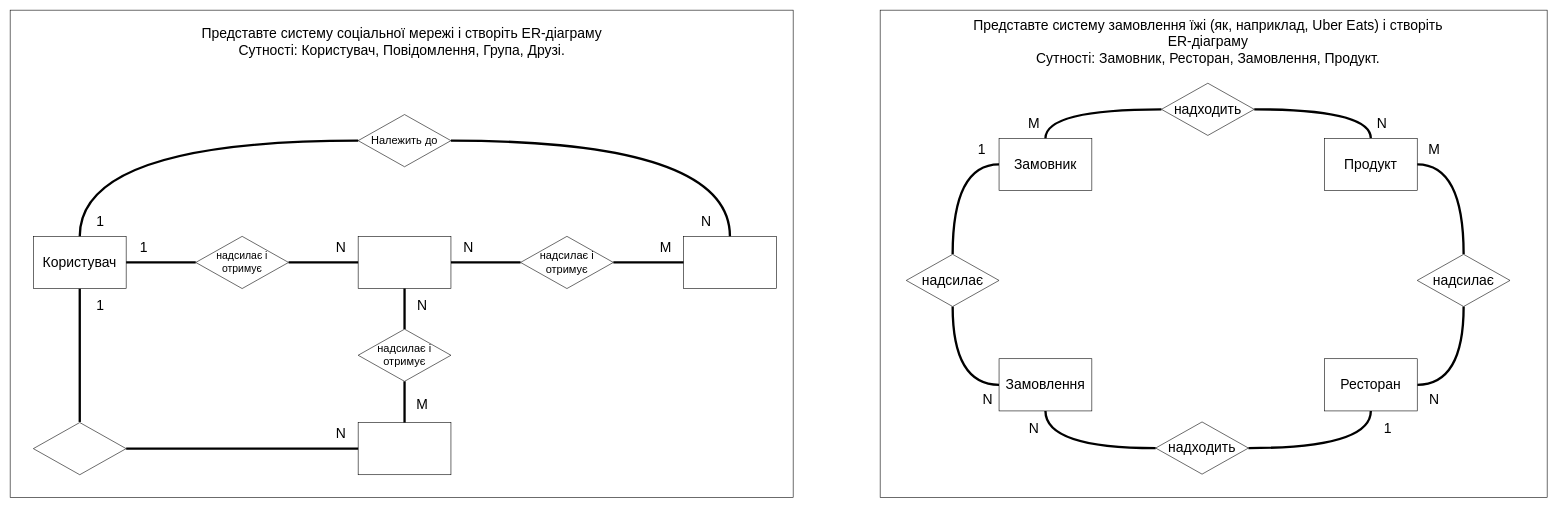
This 1557x508 diagram has some shape labels left out. Here are the shapes that lost their labels. From the top down, the box of each, then its label:
(358, 236, 451, 289): Повідомлення
(683, 236, 776, 289): Група
(33, 422, 126, 475): Взаємодіять
(358, 422, 451, 475): Друзі
